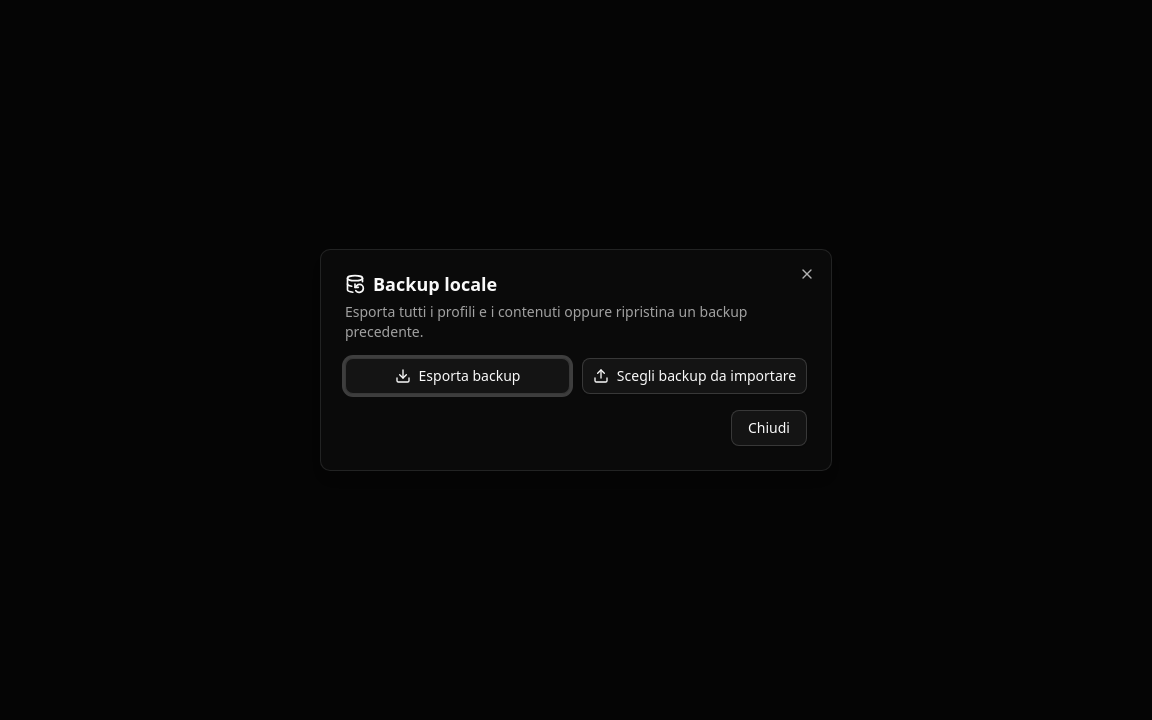
Scenario: DatabaseBackupDialog › shows an actionable error when file selection or validation fails
Click the button "Scegli backup da importare". click: (694, 376)
box: [582,358,807,394]
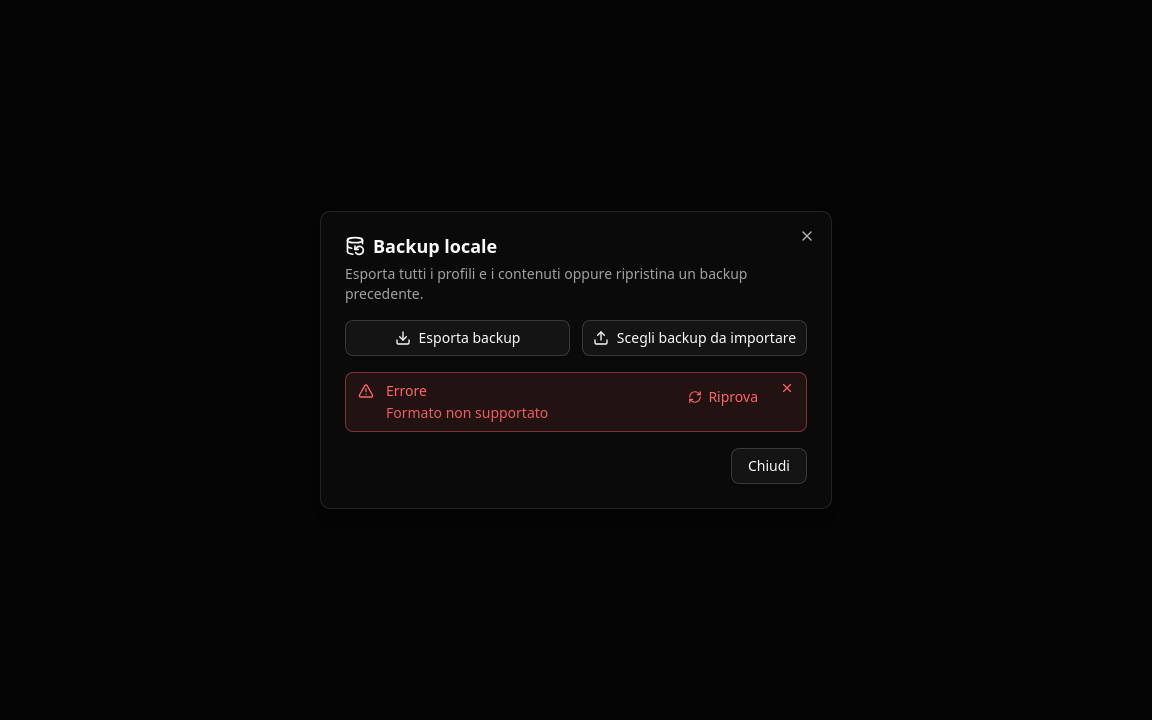
Now the text "Formato non supportato" is shown, box [386,403,548,422]
Now the button "Riprova" is shown, box [678,381,768,413]
